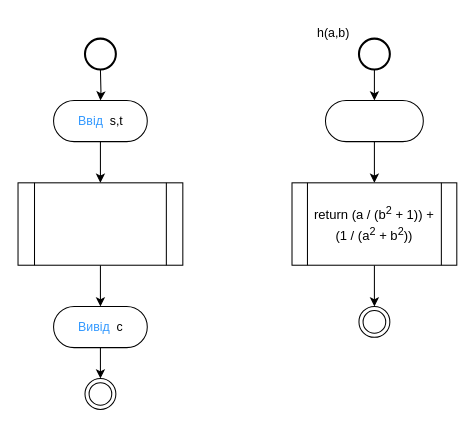
Some shapes in this 475 by 427 pixel diagram are drawn without their labels. Each missing label, with the centre of its shape:
Activity: (x=373, y=120)
c = (h 4 (s,t) + h(1, s 2 + t 2 )) / (1 + h 2 (st, 1)): (x=100, y=223)
